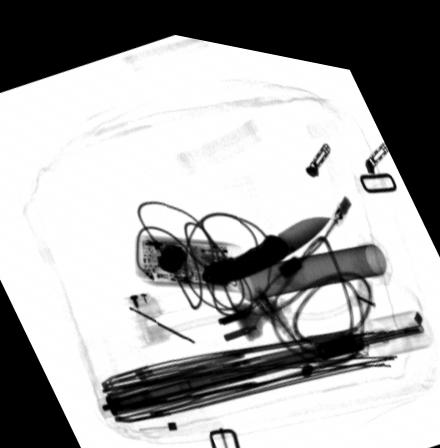Knife: (200, 201, 332, 276)
